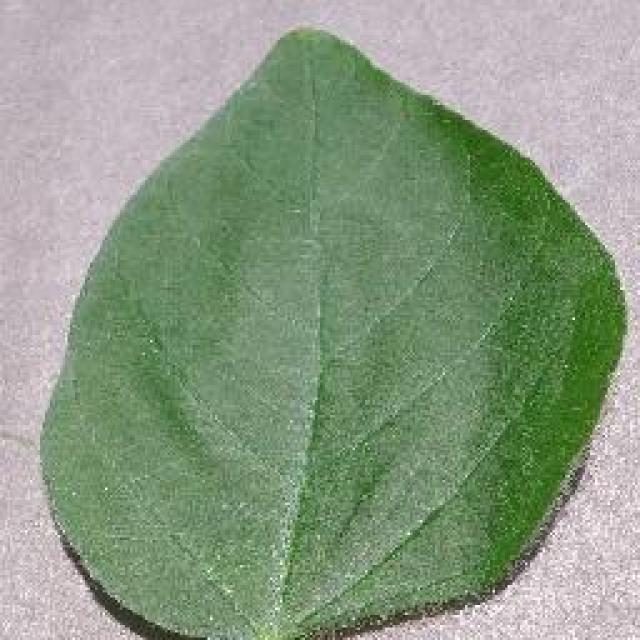Soy_healthy: (65, 53, 572, 585)
